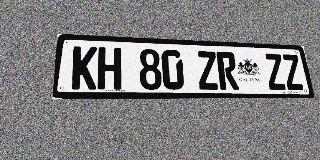0: (161, 49, 184, 90)
8: (139, 49, 162, 90)
H: (97, 47, 121, 90)
K: (71, 46, 97, 90)
R: (216, 52, 239, 90)
Z: (196, 51, 219, 90), (263, 53, 287, 90), (281, 54, 304, 90)
